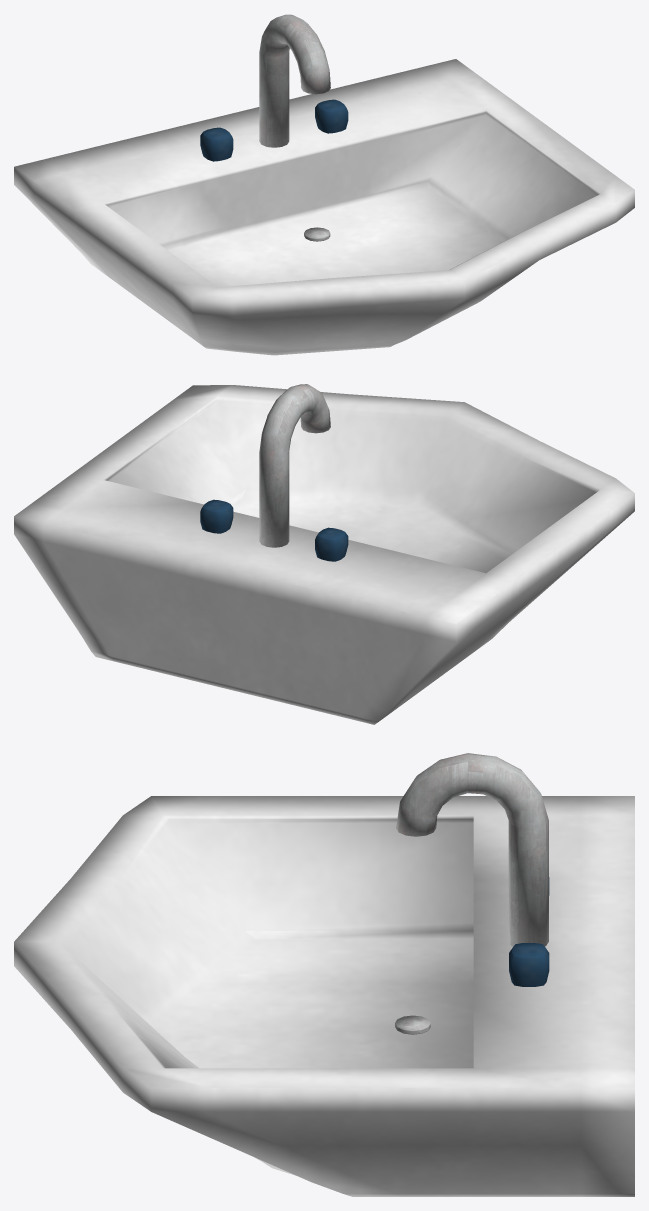
File: bathroom.sink.fbx
3 renders of one model, top to bottom at view 1: azimuth 30°, elevation 25°; view 2: azimuth 150°, elevation 25°; view 3: azimuth 270°, elevation 25°, orthographic. The views are drawn at different scales.
Visible parts, largest first — view 1: base, pipe.thing.idc, valve.002, valve.001; view 2: base, pipe.thing.idc, valve.001, valve.002; view 3: base, pipe.thing.idc, valve.001.
Part boxes in pixels (x1,y1,x2,y2): base: (14, 59, 634, 355); pipe.thing.idc: (259, 14, 330, 147); valve.002: (200, 127, 233, 161); valve.001: (315, 99, 348, 133); base: (14, 385, 634, 724); pipe.thing.idc: (259, 384, 330, 547); valve.001: (200, 499, 233, 533); valve.002: (315, 527, 348, 561); base: (14, 796, 634, 1196); pipe.thing.idc: (396, 753, 548, 946); valve.001: (509, 943, 549, 986).
Size of the model in its own units: 38.53 by 21.56 by 34.67.
Materials: 3 (3 with a texture image).
